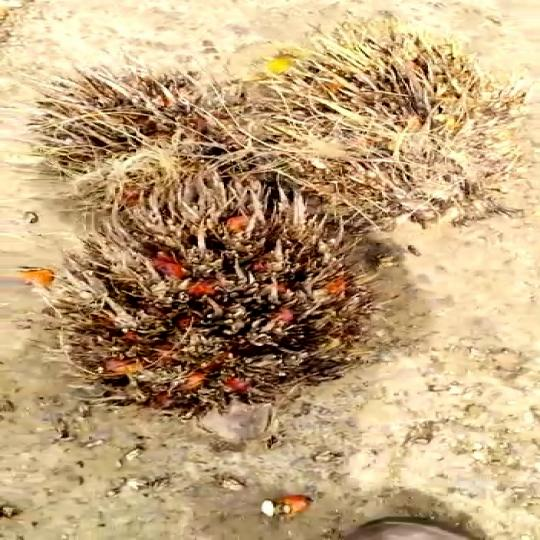terlalu masak: (57, 177, 358, 406), (215, 29, 482, 233), (31, 71, 238, 210)
